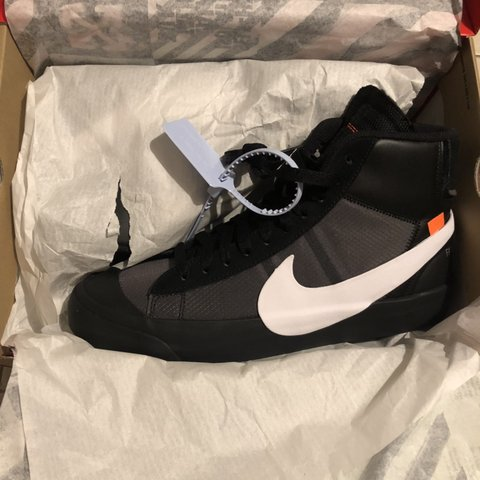Nike Blazer Grim Reaper: (57, 86, 456, 364)
